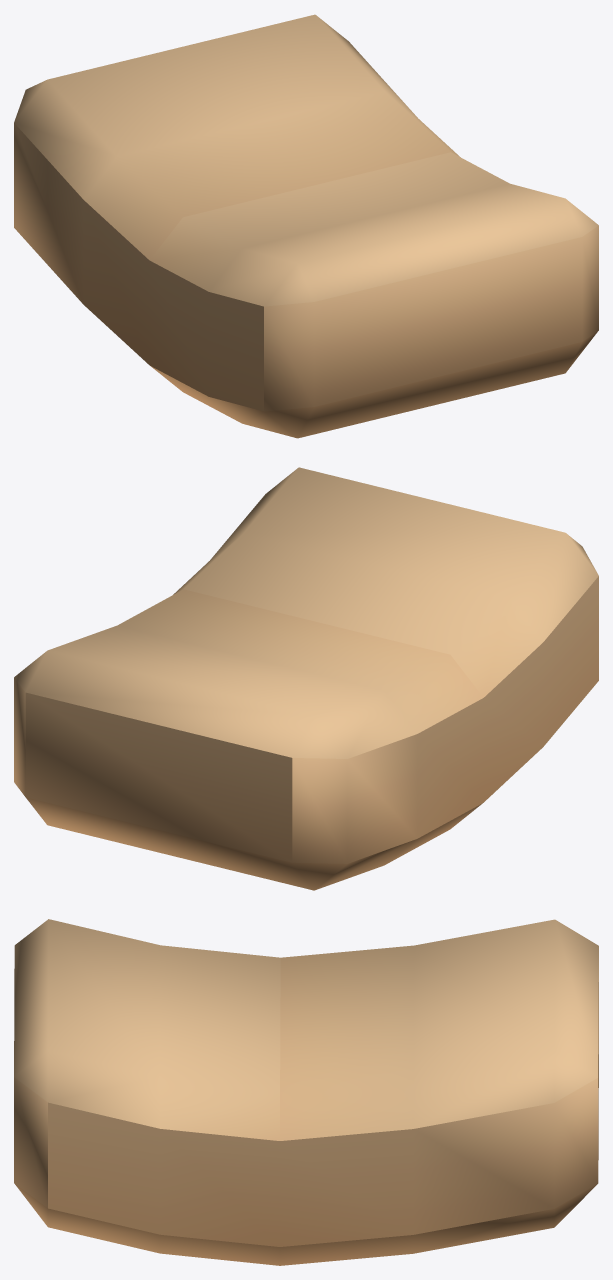
Rendered from kk_sack.glb.
The picture shows the model from 3 angles, top to bottom: view 1: azimuth 30°, elevation 25°; view 2: azimuth 150°, elevation 25°; view 3: azimuth 270°, elevation 25°; orthographic projection.
Visible parts, largest first — view 1: sack; view 2: sack; view 3: sack.
Boxes of the visible parts, <box> form: sack: <box>14,14,598,438</box>; sack: <box>14,467,598,890</box>; sack: <box>14,919,598,1265</box>.
Size of the model in its own units: 0.1065 by 0.0647 by 0.1595.
1 material, 1 textured.
